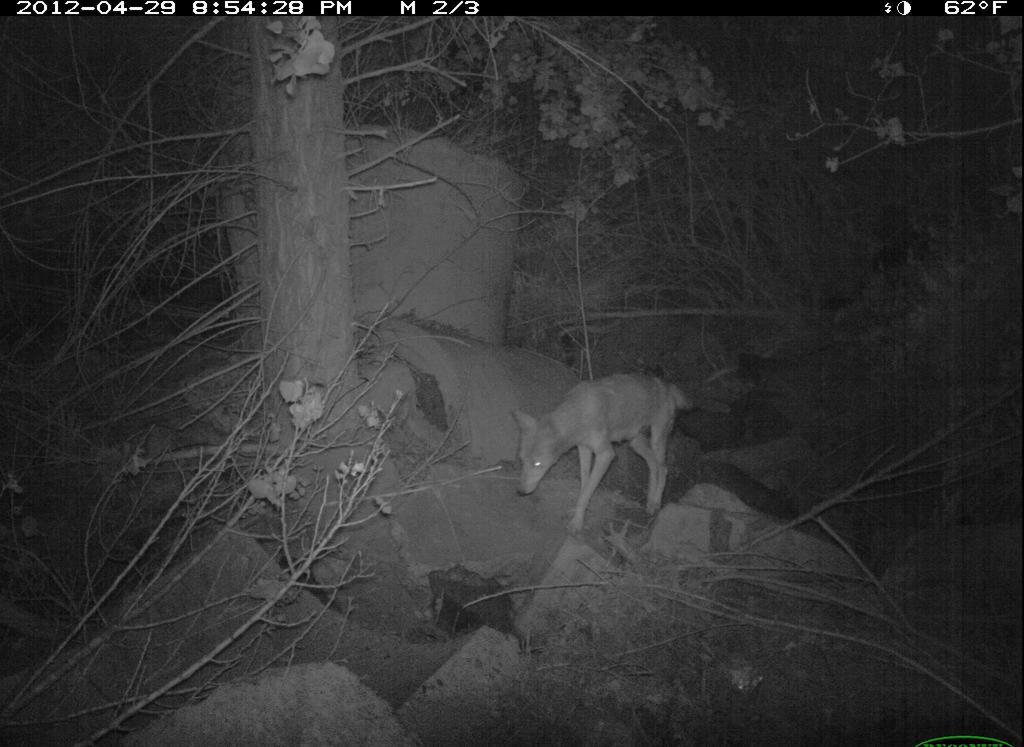coyote: (500, 367, 713, 545)
